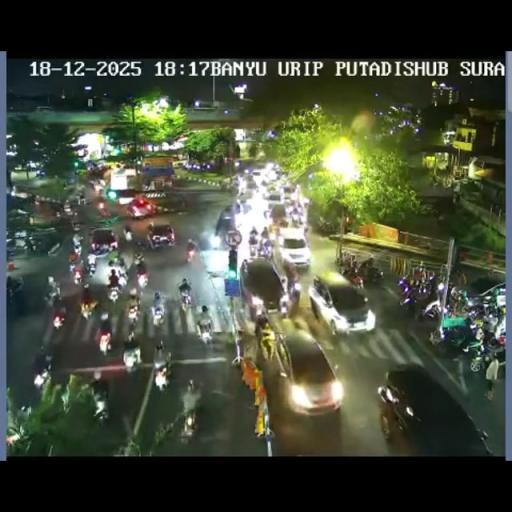Car: (376, 364, 490, 452), (268, 330, 342, 414), (308, 272, 374, 336), (238, 256, 288, 321), (275, 226, 311, 268), (214, 206, 238, 247), (88, 228, 118, 255), (146, 222, 175, 248), (126, 198, 156, 218), (267, 203, 287, 226), (263, 186, 283, 206), (240, 173, 258, 192), (280, 183, 298, 201)
Motorcycle: (81, 272, 213, 382), (430, 314, 481, 360), (398, 270, 442, 318), (177, 382, 201, 439), (4, 428, 30, 455), (483, 330, 505, 360), (122, 342, 142, 372), (6, 275, 24, 308), (468, 344, 488, 373), (477, 428, 497, 456), (195, 317, 214, 346), (448, 284, 470, 309), (258, 326, 274, 360), (154, 362, 170, 390), (33, 364, 50, 390), (464, 302, 486, 322), (106, 274, 122, 301), (80, 296, 98, 319), (435, 279, 450, 306), (70, 258, 85, 284), (93, 403, 110, 425), (126, 294, 140, 320), (278, 288, 292, 314), (178, 286, 193, 310), (234, 196, 252, 216), (151, 302, 165, 327), (98, 330, 112, 355), (317, 218, 338, 234), (126, 317, 139, 342), (135, 264, 148, 289), (366, 266, 384, 284), (411, 263, 425, 286), (42, 289, 58, 308), (53, 306, 66, 329), (348, 273, 363, 291), (96, 199, 110, 218), (86, 252, 98, 274), (219, 175, 235, 191), (114, 254, 128, 272), (289, 208, 302, 226), (342, 254, 355, 272), (62, 202, 76, 218), (260, 241, 273, 258), (154, 340, 165, 359), (248, 237, 258, 257), (24, 236, 35, 254), (72, 233, 82, 252), (91, 179, 104, 193), (268, 227, 278, 245), (186, 244, 195, 262), (134, 251, 144, 266), (71, 219, 81, 233), (186, 378, 196, 392), (76, 194, 89, 204), (261, 226, 269, 240), (302, 196, 310, 209), (125, 230, 132, 242), (154, 291, 160, 301)
